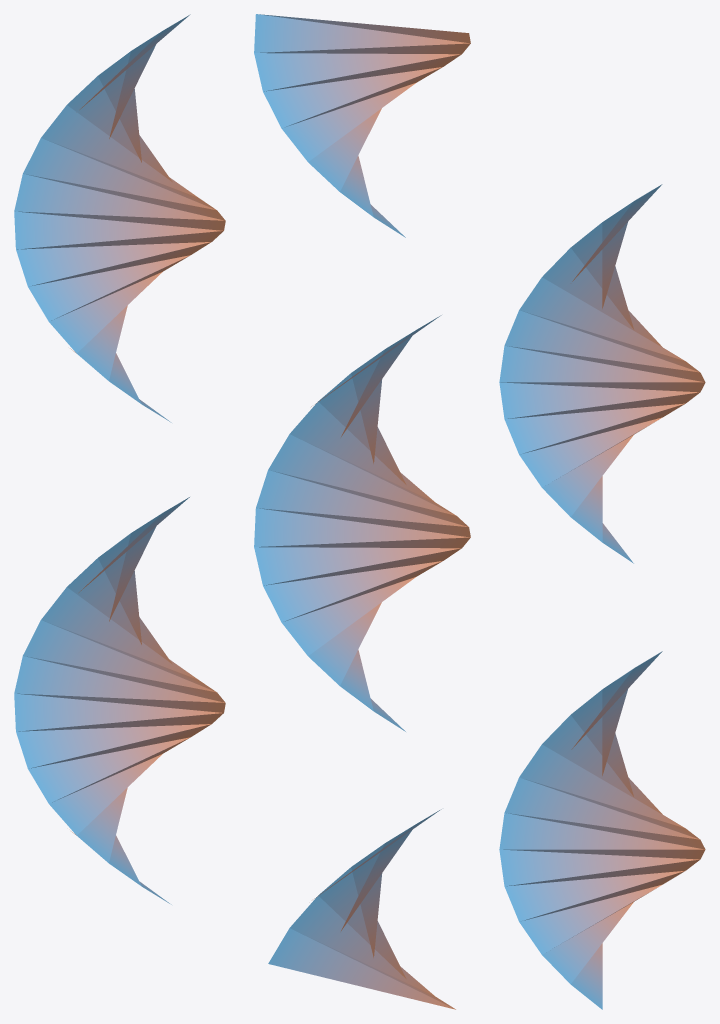
File: dna.glb
The picture shows the model from 3 angles, left to right: view 1: azimuth 30°, elevation 25°; view 2: azimuth 150°, elevation 25°; view 3: azimuth 270°, elevation 25°; orthographic projection. The views are drawn at different scales.
Size of the model in its own units: 0.8 by 3.9 by 0.8.
